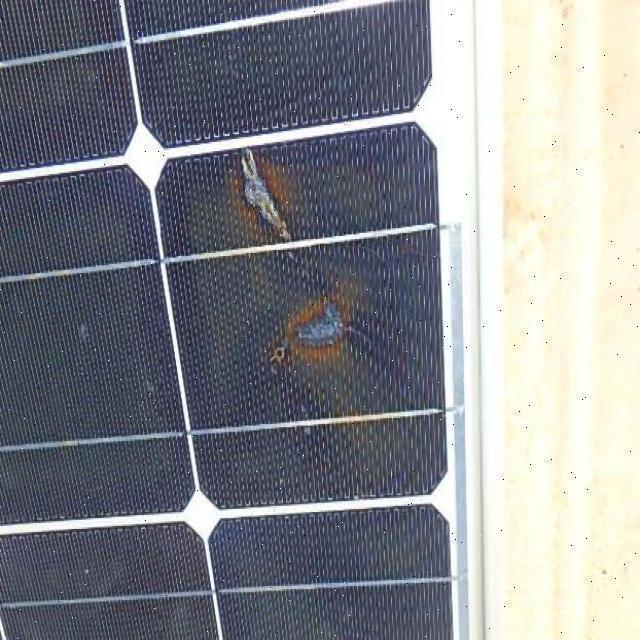Anomaly Solar Panel: (0, 2, 473, 638)
Structural Damage: (228, 150, 289, 240), (288, 296, 354, 358), (249, 335, 299, 375)
